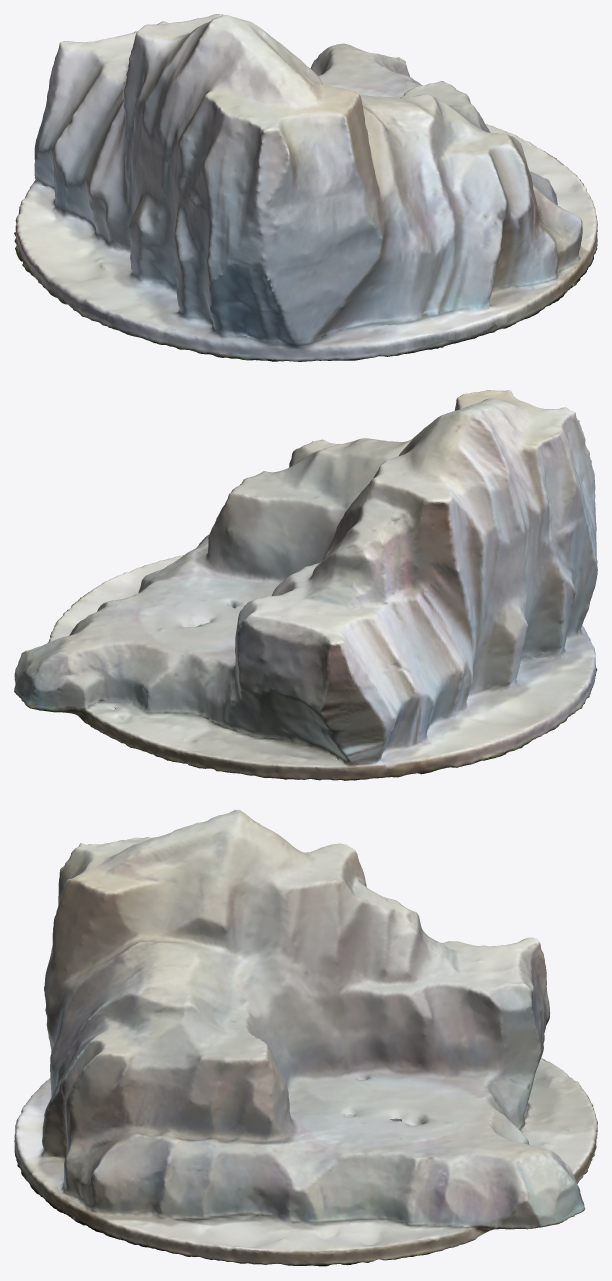
File: iceberg.glb
3 renders of one model, top to bottom at view 1: azimuth 30°, elevation 25°; view 2: azimuth 150°, elevation 25°; view 3: azimuth 270°, elevation 25°, orthographic. The views are drawn at different scales.
Visible parts, largest first — view 1: Object_2; view 2: Object_2, Object_3; view 3: Object_2, Object_3.
Boxes of the visible parts, box(x1,y1,x2,y2) form: Object_2: box(14, 14, 597, 361); Object_2: box(14, 390, 597, 780); Object_3: box(70, 563, 183, 634); Object_2: box(14, 809, 597, 1266); Object_3: box(176, 1063, 511, 1234).
Size of the model in its own units: 1.34 by 0.7032 by 1.34.
Materials: 1 (1 with a texture image).
